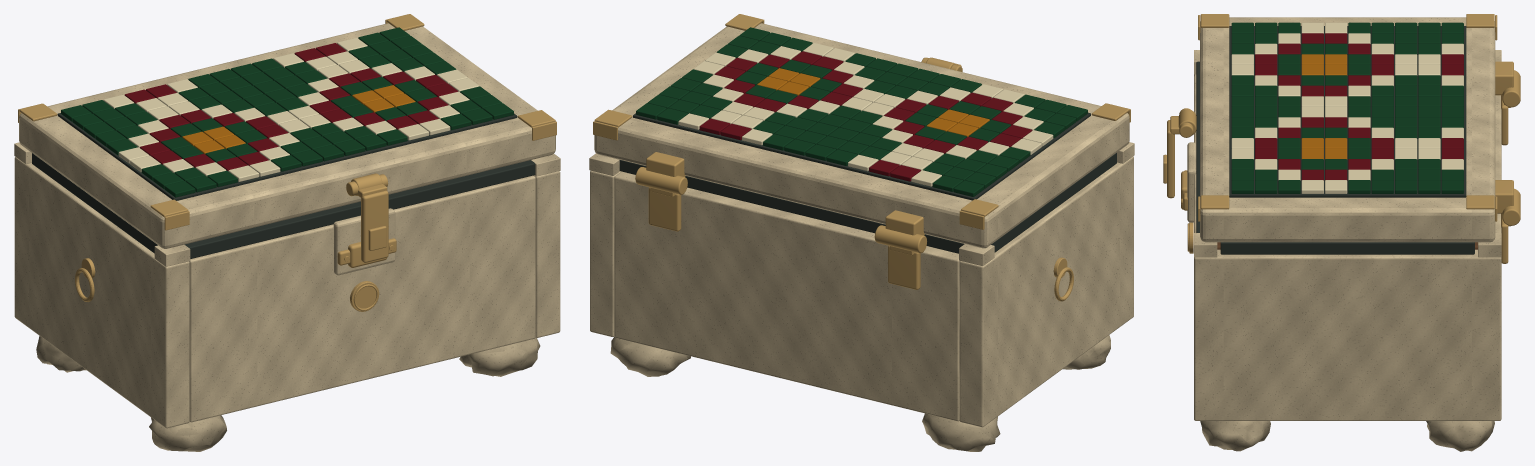
Rendered from france.glb.
The picture shows the model from 3 angles, left to right: view 1: azimuth 30°, elevation 25°; view 2: azimuth 150°, elevation 25°; view 3: azimuth 270°, elevation 25°; orthographic projection.
Parts seen in each view (by area): view 1: Limestone / facade, Limestone / side, Lid / polished slab, Mineral seam / long, Limestone / side.001, Tile / grout bed, Granite foot, Granite foot.002, Latch / lifting hasp, Limestone / clasp seat, Mineral seam / side, Granite foot.001 (+2 smaller); view 2: Limestone / facade.001, Limestone / side, Lid / polished slab, Limestone / side.001, Mineral seam / long.001, Tile / grout bed, Granite foot.001, Granite foot.003, Mineral seam / side, Hinge / fixed mount.001, Hinge / fixed mount, Hinge / fixed barrel.001 (+6 smaller); view 3: Limestone / side.001, Lid / polished slab, Tile / grout bed, Mineral seam / side.001, Granite foot.002, Granite foot.003, Limestone / facade.001, Limestone / clasp seat, Mineral seam / long, Hinge / moving leaf, Latch / lifting hasp, Hinge / moving leaf.001 (+8 smaller).
Boxes of the visible parts, x1=… form: Limestone / facade: x1=189, y1=175, x2=535, y2=422; Limestone / side: x1=14, y1=157, x2=189, y2=428; Lid / polished slab: x1=19, y1=23, x2=555, y2=248; Mineral seam / long: x1=184, y1=160, x2=535, y2=258; Limestone / side.001: x1=533, y1=171, x2=560, y2=337; Tile / grout bed: x1=57, y1=113, x2=517, y2=200; Granite foot: x1=149, y1=415, x2=226, y2=451; Granite foot.002: x1=459, y1=337, x2=540, y2=376; Latch / lifting hasp: x1=361, y1=190, x2=388, y2=262; Limestone / clasp seat: x1=333, y1=208, x2=395, y2=275; Mineral seam / side: x1=32, y1=153, x2=157, y2=253; Granite foot.001: x1=36, y1=336, x2=86, y2=372; Limestone / facade.001: x1=614, y1=171, x2=959, y2=421; Limestone / side: x1=959, y1=156, x2=1133, y2=427; Lid / polished slab: x1=594, y1=23, x2=1129, y2=248; Limestone / side.001: x1=590, y1=170, x2=621, y2=336; Mineral seam / long.001: x1=619, y1=160, x2=964, y2=253; Tile / grout bed: x1=633, y1=112, x2=1090, y2=200; Granite foot.001: x1=922, y1=413, x2=1000, y2=451; Granite foot.003: x1=610, y1=337, x2=690, y2=376; Mineral seam / side: x1=991, y1=153, x2=1116, y2=252; Hinge / fixed mount.001: x1=648, y1=187, x2=681, y2=231; Hinge / fixed mount: x1=888, y1=245, x2=920, y2=289; Hinge / fixed barrel.001: x1=635, y1=167, x2=687, y2=194; Limestone / side.001: x1=1194, y1=249, x2=1501, y2=420; Lid / polished slab: x1=1200, y1=17, x2=1495, y2=242; Tile / grout bed: x1=1229, y1=26, x2=1466, y2=197; Mineral seam / side.001: x1=1220, y1=242, x2=1474, y2=254; Granite foot.002: x1=1200, y1=421, x2=1270, y2=451; Granite foot.003: x1=1426, y1=421, x2=1494, y2=451; Limestone / facade.001: x1=1495, y1=95, x2=1501, y2=232; Limestone / clasp seat: x1=1187, y1=142, x2=1196, y2=222; Mineral seam / long: x1=1196, y1=61, x2=1199, y2=232; Hinge / moving leaf: x1=1495, y1=61, x2=1513, y2=95; Latch / lifting hasp: x1=1167, y1=120, x2=1174, y2=198; Hinge / moving leaf.001: x1=1495, y1=180, x2=1513, y2=213.
Size of the model in its own units: 3.79 by 2.35 by 2.88.
9 materials, 2 textured.
